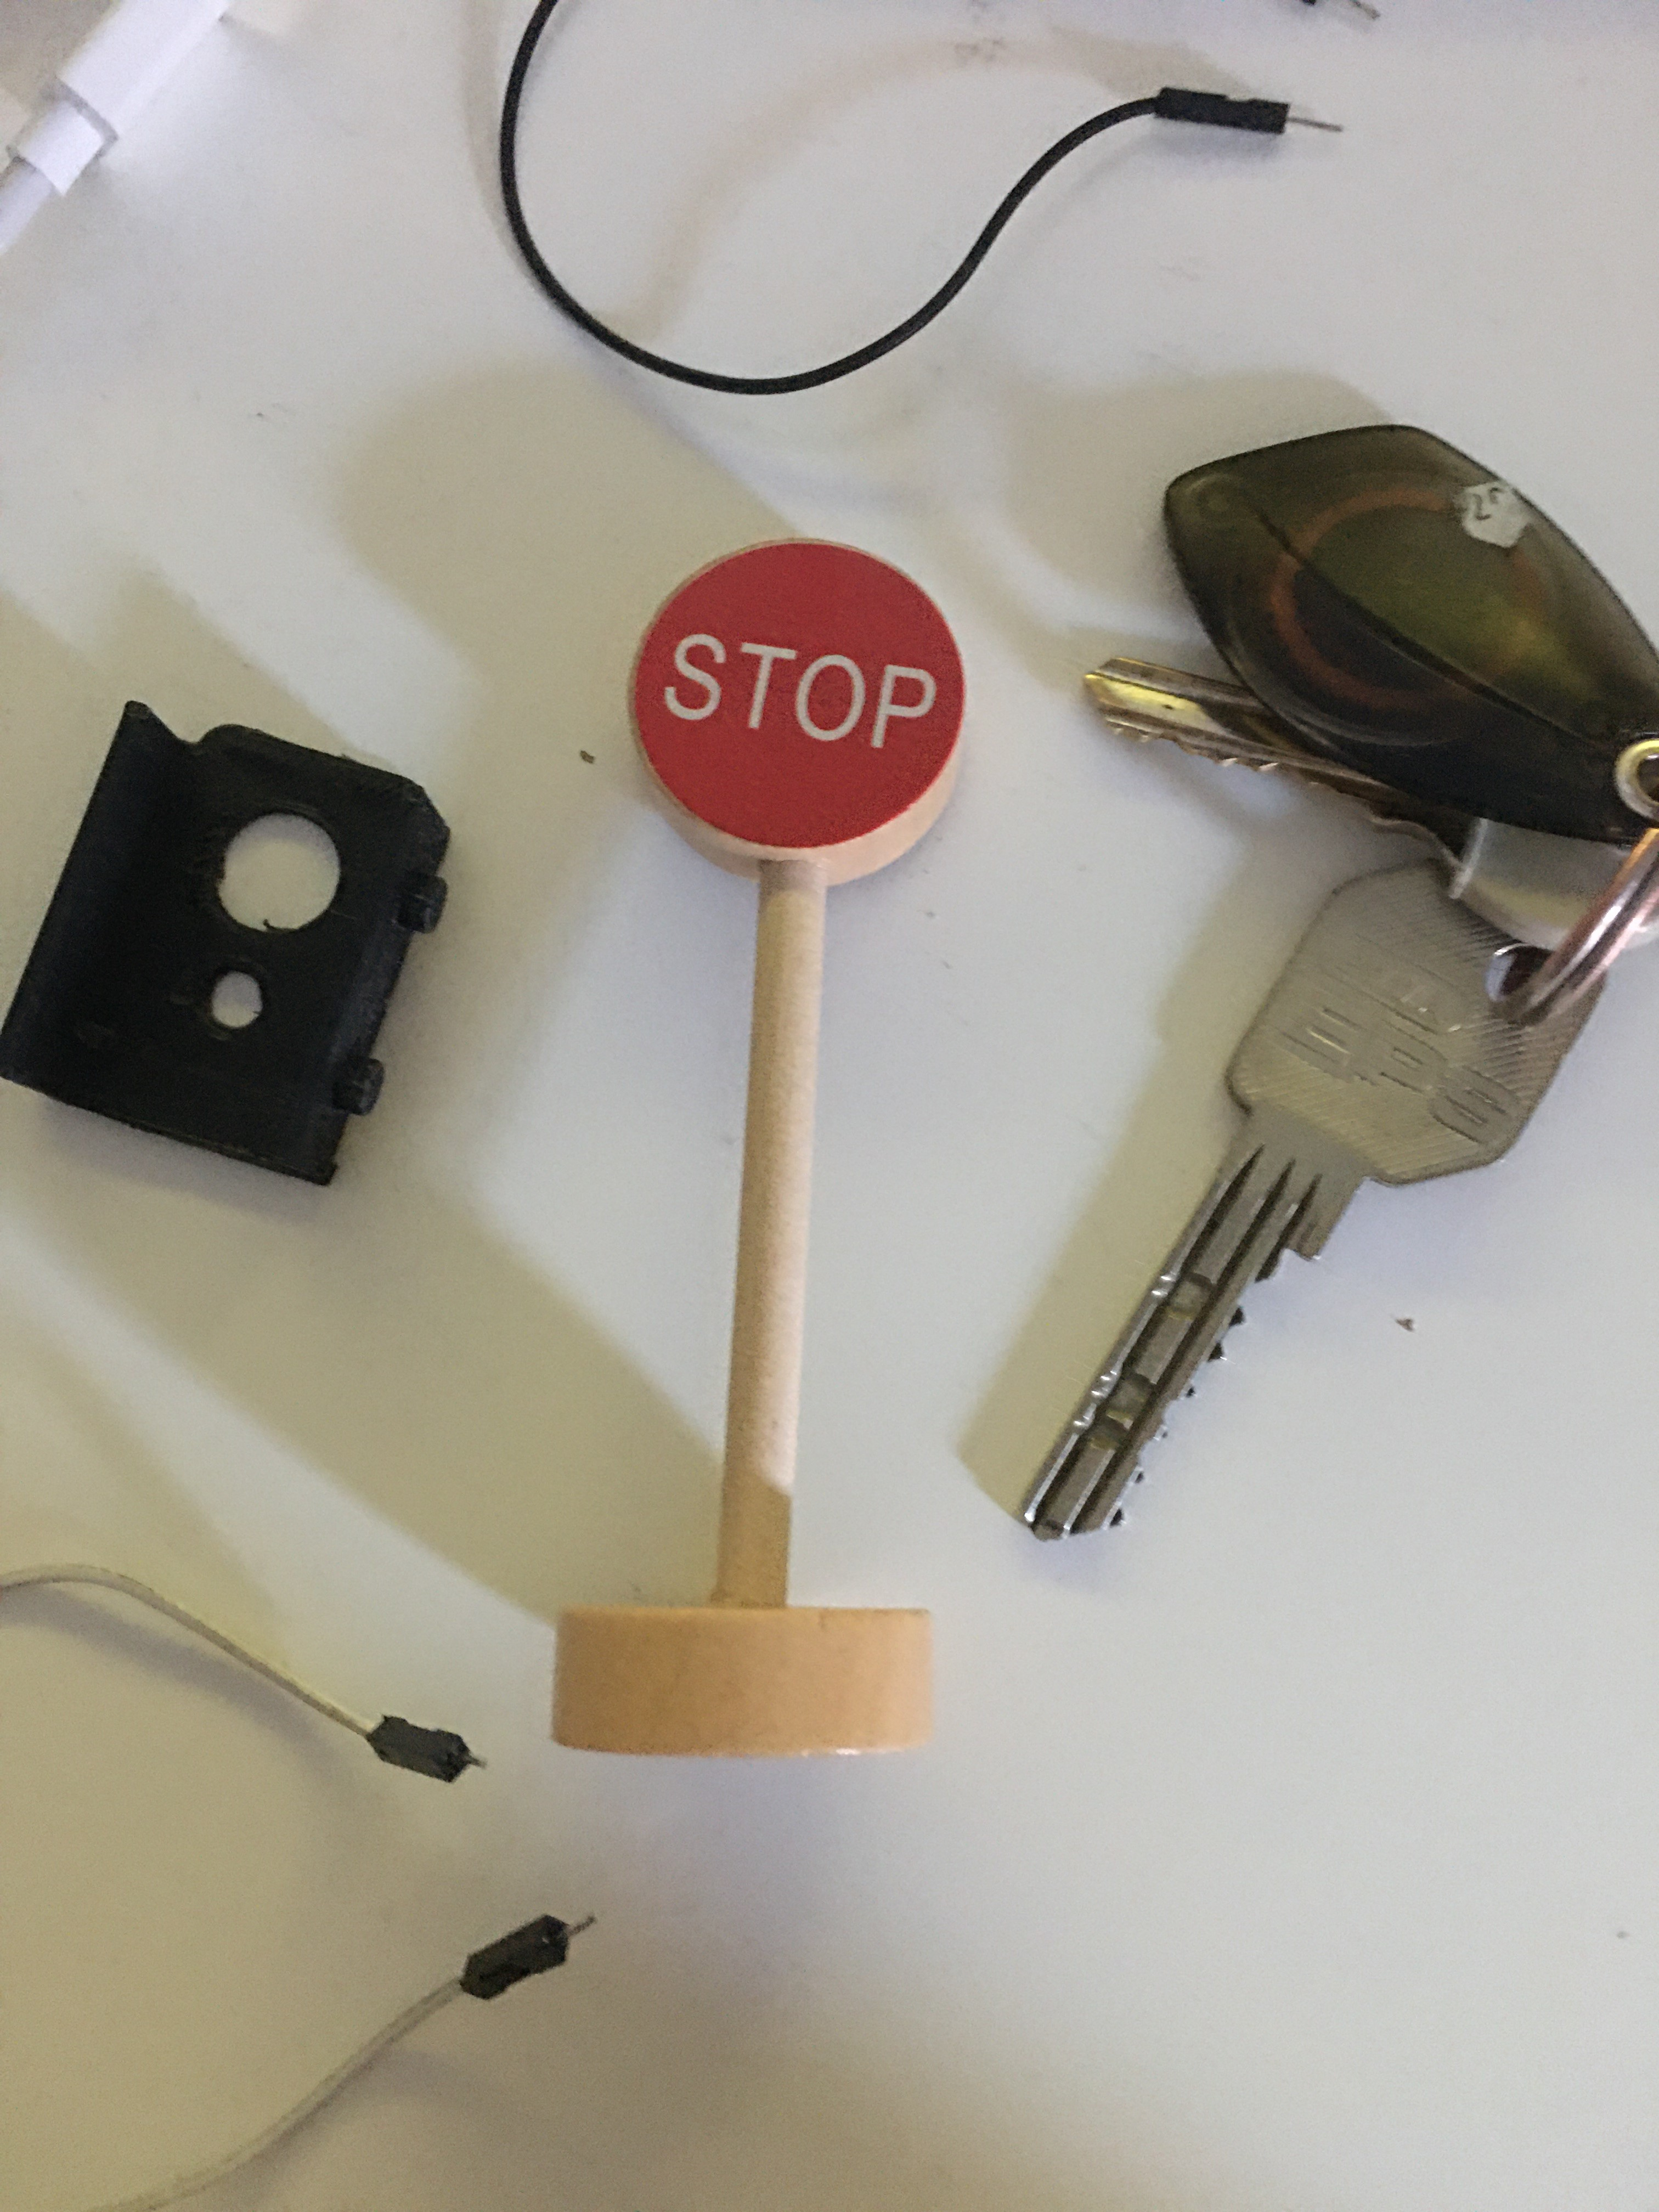Traffic_Sign_Stop: (629, 533, 960, 857)
